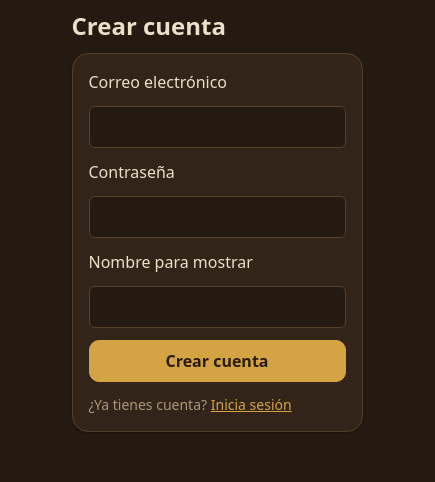
RegisterPage › says the server is unreachable when the request never got an answer
The image size is (435, 482).
Type "ana@example.com" into the field labelled "Correo electrónico".
click(217, 127); type("ana@example.com")  # box [88,106,346,148]
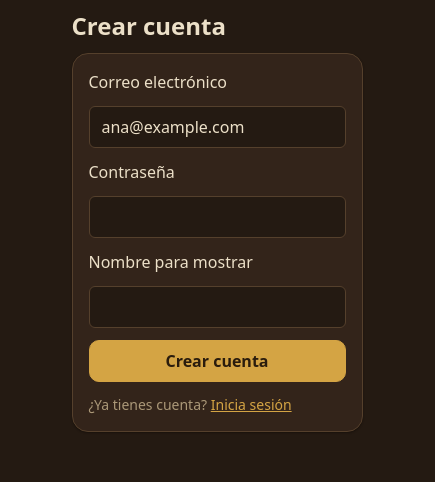
Type "secret12" into the password field labelled "Contraseña".
click(217, 217); type("secret12")  # box [88,196,346,238]
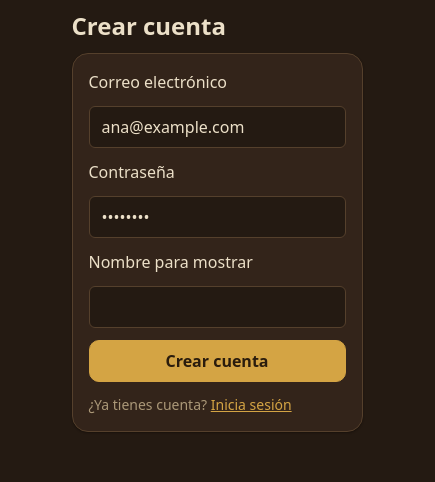
Type "Ana" into the field labelled "Nombre para mostrar".
click(217, 307); type("Ana")  # box [88,286,346,328]
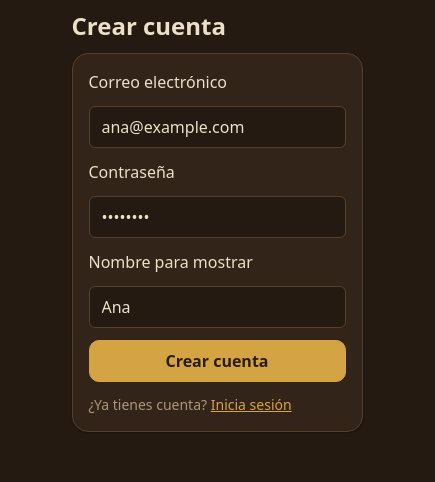
Click the button "Crear cuenta".
click(217, 361)  # box [88,340,346,382]
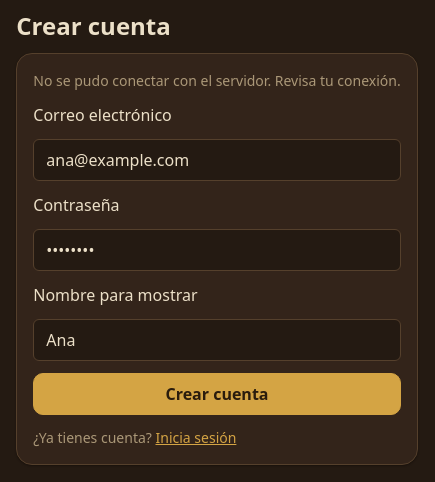
Result: the message reads "No se pudo conectar con el servidor. Revisa tu conexión." at [33,71,401,90]
